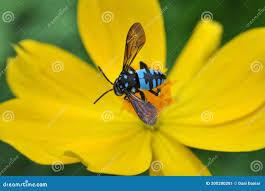Thyreus: (92, 21, 185, 123)
